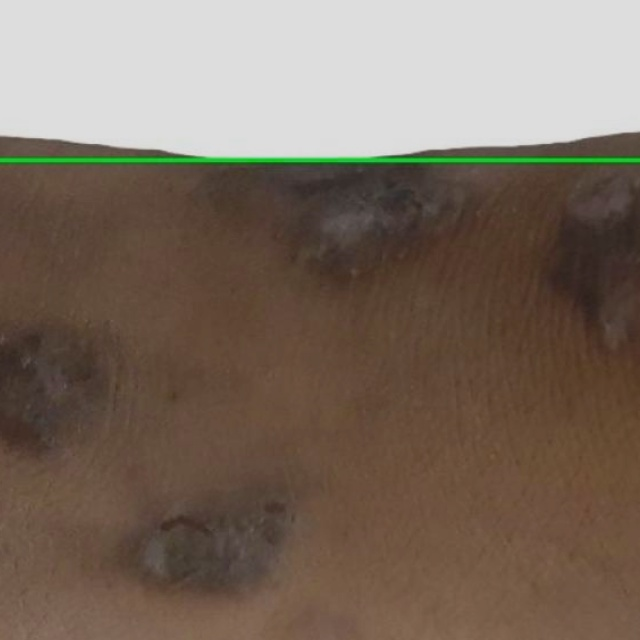Contact Dermatitis: (0, 0, 639, 160)
